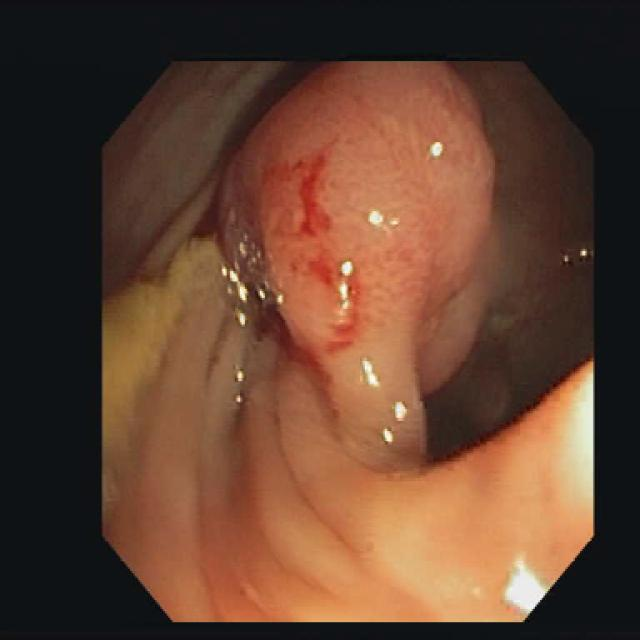tumor: (222, 62, 507, 464)
